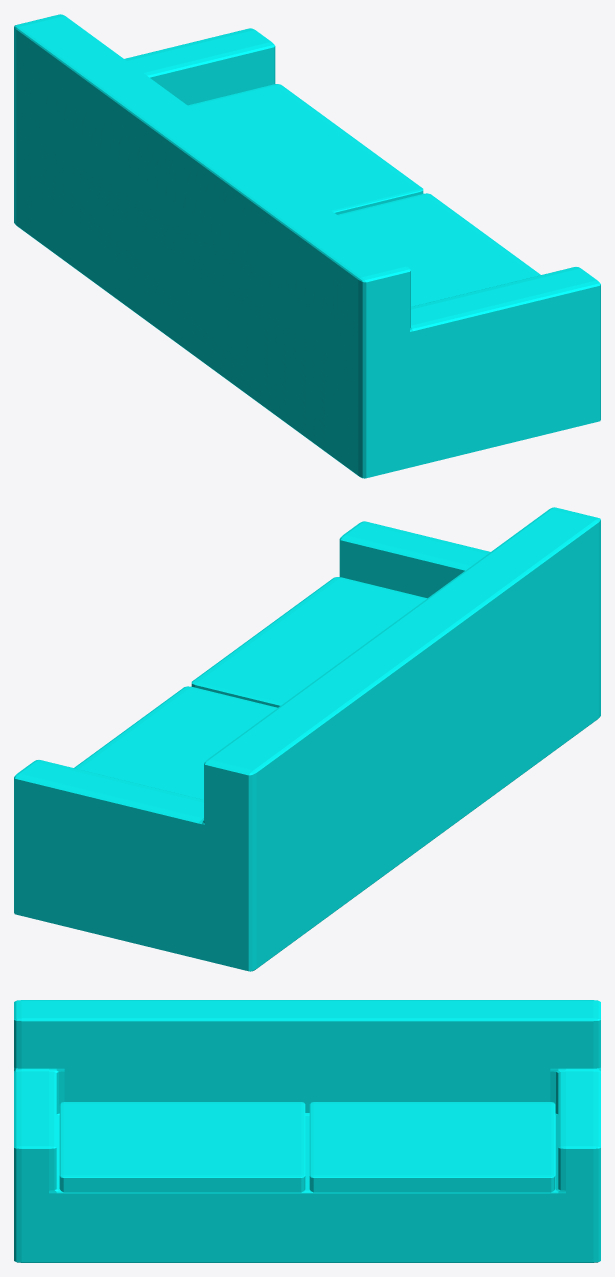
File: Sofa.fbx
3 views of the same model, one above another, from view 1: azimuth 30°, elevation 25°; view 2: azimuth 150°, elevation 25°; view 3: azimuth 270°, elevation 25° (orthographic). The views are drawn at different scales.
Visible parts, largest first — view 1: Cube, Cube.001; view 2: Cube, Cube.001; view 3: Cube, Cube.001.
Boxes of the visible parts, x1=… form: Cube: x1=14, y1=14, x2=600, y2=478; Cube.001: x1=188, y1=84, x2=540, y2=306; Cube: x1=14, y1=507, x2=600, y2=971; Cube.001: x1=74, y1=577, x2=426, y2=799; Cube: x1=14, y1=1000, x2=600, y2=1262; Cube.001: x1=59, y1=1102, x2=555, y2=1192.
Bounding box in the file's own units: 396 × 314 × 1003.
